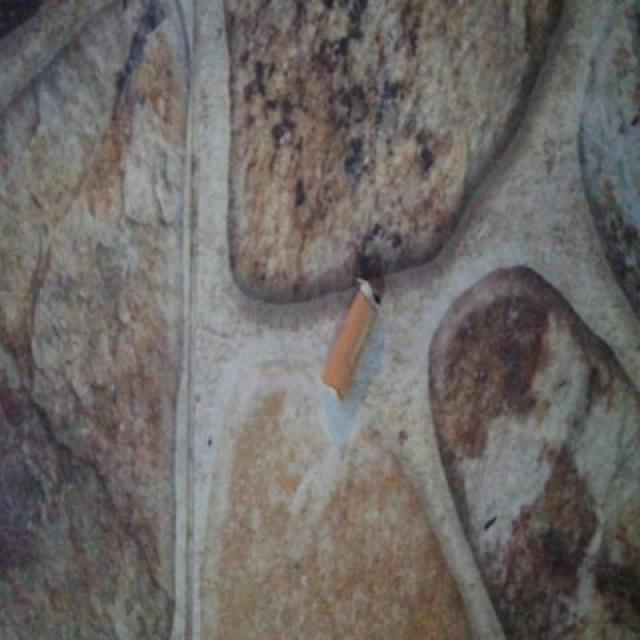non-organic waste: (314, 271, 389, 409)
